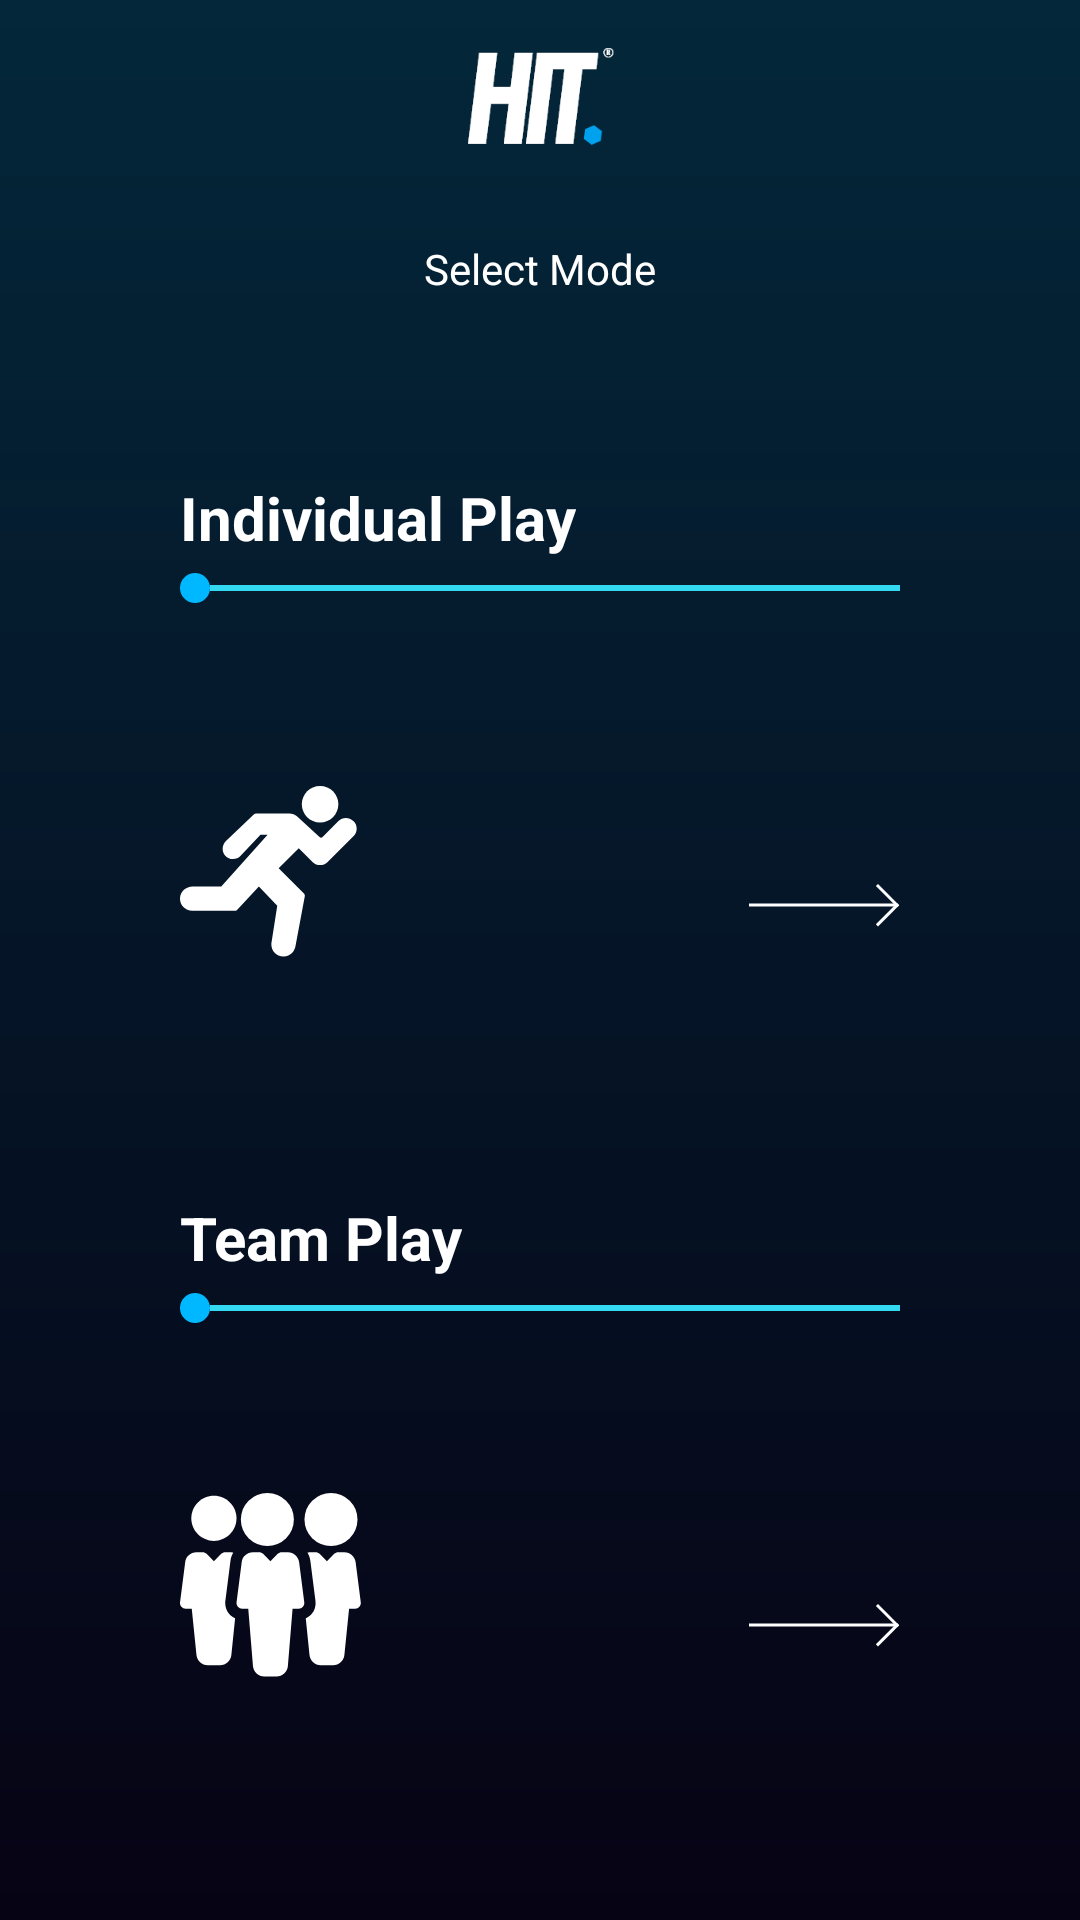

Where to tap for icons on this 1080px×1920px app screen, as [x,y]:
arrow: [824,905], [824,1625]
individual: [268,871]
team: [270,1585]
